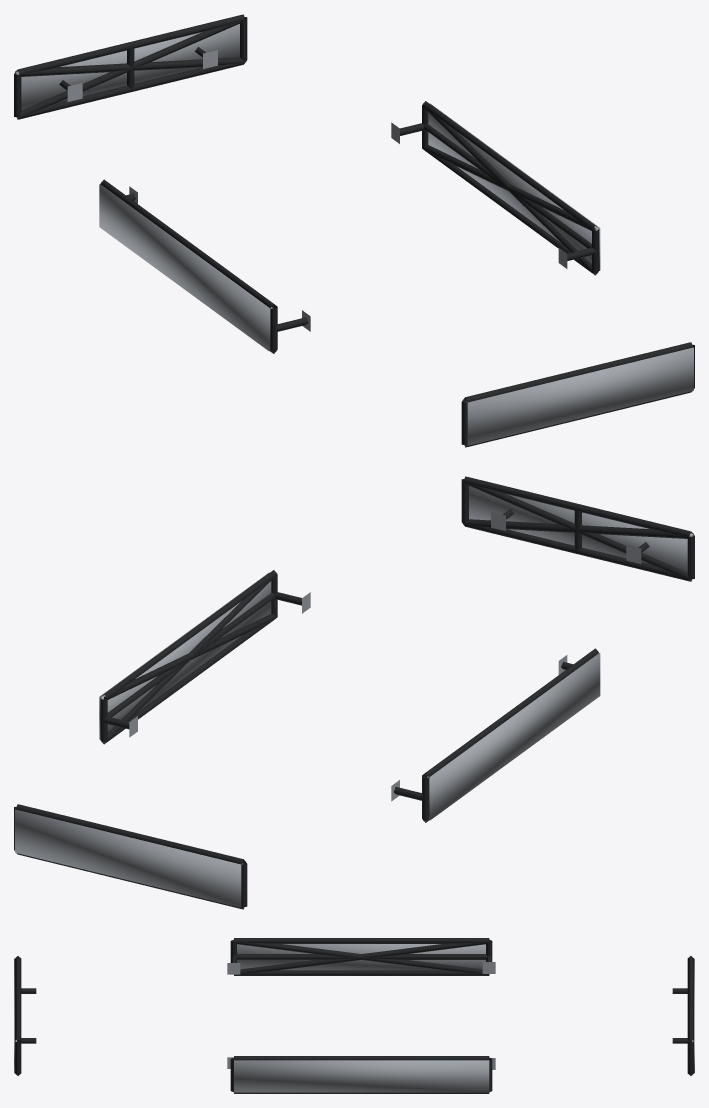
The model's file is garrison_martelo_protecao.glb.
3 views of the same model, one above another, from view 1: azimuth 30°, elevation 25°; view 2: azimuth 150°, elevation 25°; view 3: azimuth 270°, elevation 25° (orthographic). The views are drawn at different scales.
Visible parts, largest first — view 1: Protection_front_Level3_Details, Protection_left_Level3_Details, Protection_rear_Level3_Details, Protection_rear_Level1_Details, Protection_right_Level1_Details, Protection_right_Level2_Details, Protection_rear_Level2_Details, Protection_right_Level3_Details, Protection_front_Level1_Details, Protection_left_Level1_Details; view 2: Protection_rear_Level3_Details, Protection_left_Level3_Details, Protection_front_Level3_Details, Protection_front_Level1_Details, Protection_right_Level1_Details, Protection_right_Level2_Details, Protection_front_Level2_Details, Protection_right_Level3_Details, Protection_rear_Level1_Details, Protection_left_Level1_Details; view 3: Protection_right_Level3_Details, Protection_left_Level2_Details, Protection_left_Level3_Details, Protection_left_Level1_Details, Protection_right_Level1_Details, Protection_rear_Level1_Details, Protection_front_Level1_Details.
Boxes of the visible parts, left/top/right/bottom form: Protection_front_Level3_Details: left=466, top=347, right=693, bottom=445; Protection_left_Level3_Details: left=99, top=184, right=272, bottom=351; Protection_rear_Level3_Details: left=15, top=24, right=239, bottom=110; Protection_rear_Level1_Details: left=14, top=14, right=247, bottom=119; Protection_right_Level1_Details: left=391, top=101, right=599, bottom=275; Protection_right_Level2_Details: left=422, top=107, right=597, bottom=275; Protection_rear_Level2_Details: left=16, top=20, right=245, bottom=118; Protection_right_Level3_Details: left=428, top=103, right=600, bottom=270; Protection_front_Level1_Details: left=461, top=342, right=694, bottom=447; Protection_left_Level1_Details: left=100, top=179, right=310, bottom=353; Protection_rear_Level3_Details: left=15, top=809, right=242, bottom=907; Protection_left_Level3_Details: left=427, top=653, right=600, bottom=820; Protection_front_Level3_Details: left=469, top=486, right=693, bottom=572; Protection_front_Level1_Details: left=461, top=476, right=694, bottom=581; Protection_right_Level1_Details: left=100, top=570, right=310, bottom=743; Protection_right_Level2_Details: left=101, top=575, right=277, bottom=744; Protection_front_Level2_Details: left=463, top=482, right=692, bottom=580; Protection_right_Level3_Details: left=99, top=572, right=271, bottom=739; Protection_rear_Level1_Details: left=14, top=804, right=247, bottom=909; Protection_left_Level1_Details: left=391, top=648, right=598, bottom=822; Protection_right_Level3_Details: left=234, top=1060, right=489, bottom=1092; Protection_left_Level2_Details: left=233, top=940, right=489, bottom=974; Protection_left_Level3_Details: left=237, top=944, right=485, bottom=970; Protection_left_Level1_Details: left=227, top=938, right=495, bottom=975; Protection_right_Level1_Details: left=227, top=1056, right=495, bottom=1093; Protection_rear_Level1_Details: left=672, top=956, right=693, bottom=1075; Protection_front_Level1_Details: left=15, top=956, right=36, bottom=1075.
Bounding box in the file's own units: 2.43 × 0.354 × 5.76.
Materials: 1 (1 with a texture image).
